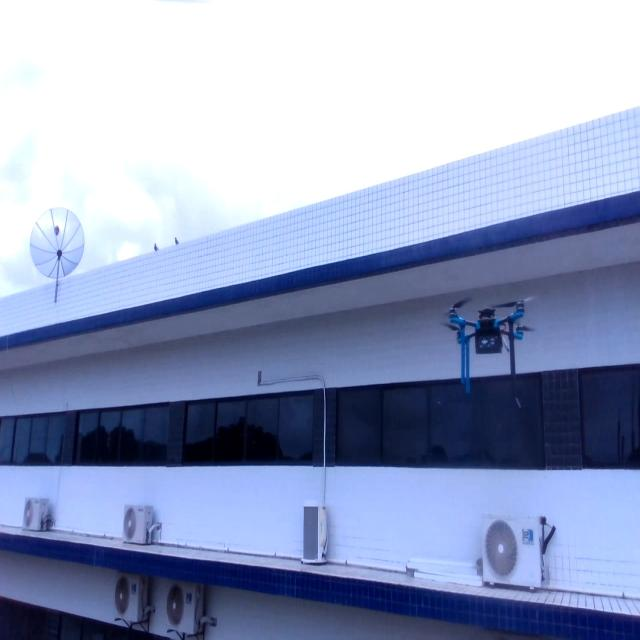-uav-: (434, 286, 537, 401)
